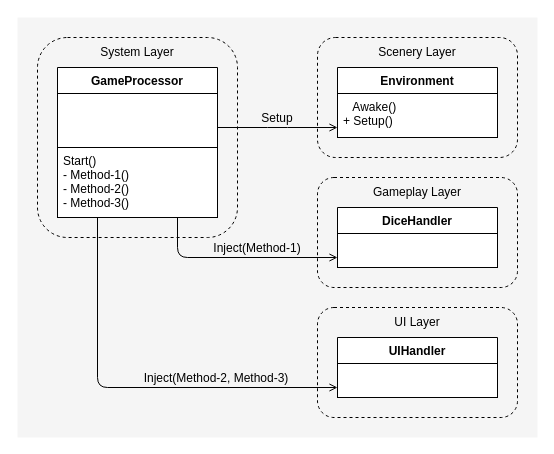
This 554x454 diagram has some shape labels left out. Here are the shapes that lost their labels. From the top down, the centre of each, then its label:
At (x=137, y=120): "- scenery: Environment - gameplay: DiceHandler - userInterface: UIHandler".
At (x=417, y=250): "+ Initialize(Action-1)".
At (x=417, y=380): "+ Initialize(Ation-2, Action-3)".
